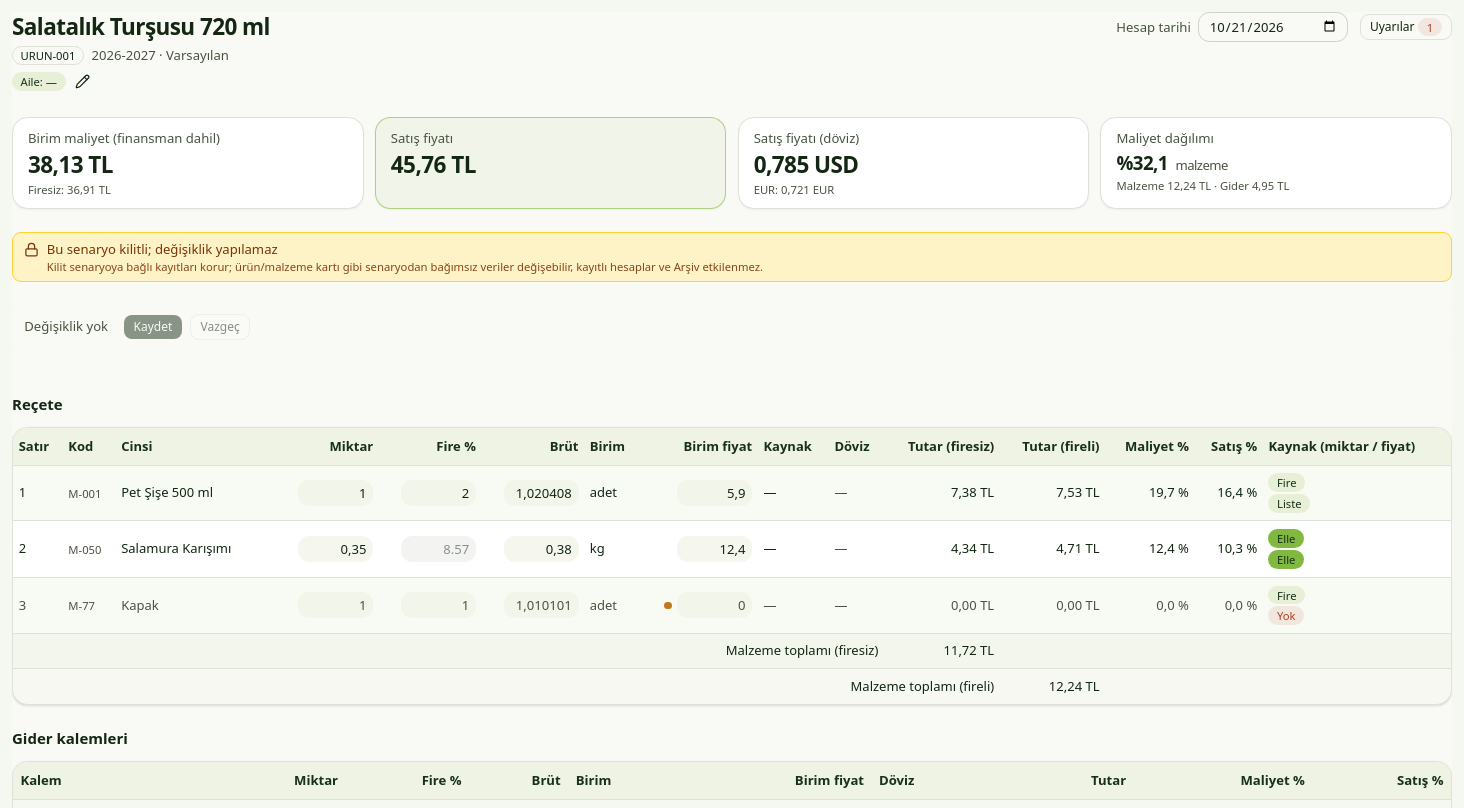
UrunMaliyeti › kilitli senaryoda şerit görünür, hücreler düzenlenebilir ama Kaydet pasiftir ('Senaryo kilitli')
Expected: the text "Pet Şişe 500 ml" is shown, [116,465,276,521]
Expected: the text "Bu senaryo kilitli; değişiklik yapılamaz" is shown, [47,240,278,258]
Replace the text in the field named "Fire % — Pet Şişe 500 ml" with "5" at (438, 493), box [401,480,476,506]
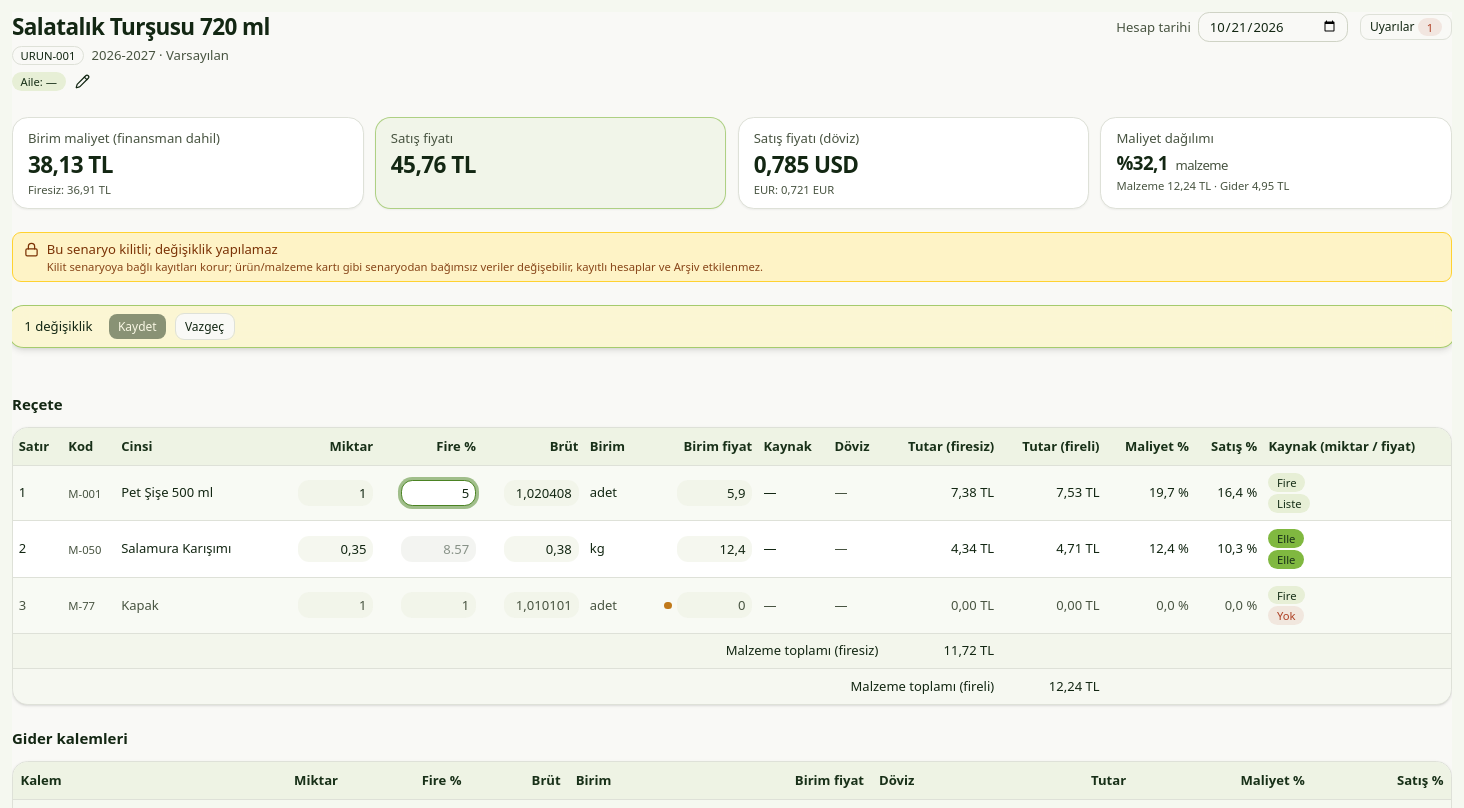
Expected: the button "Kaydet" is disabled, [108,313,167,340]
Now the text "1 değişiklik" is shown, box [24,317,93,336]
